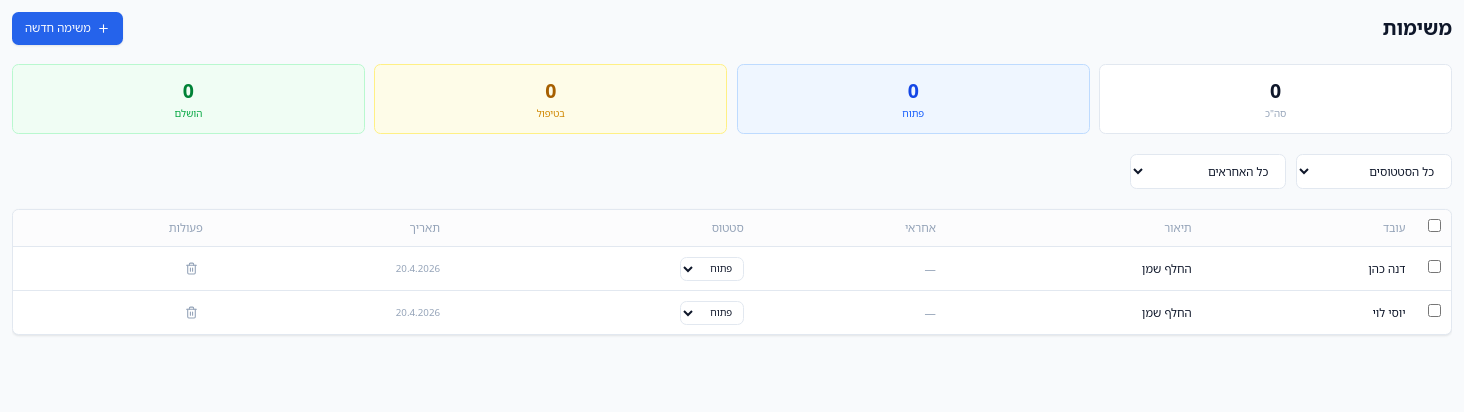
it: TasksClient — selection UI › select-all toggles all rows
Click the checkbox named "בחר הכל".
click(1435, 226)  # box 1428,219 -> 1441,232
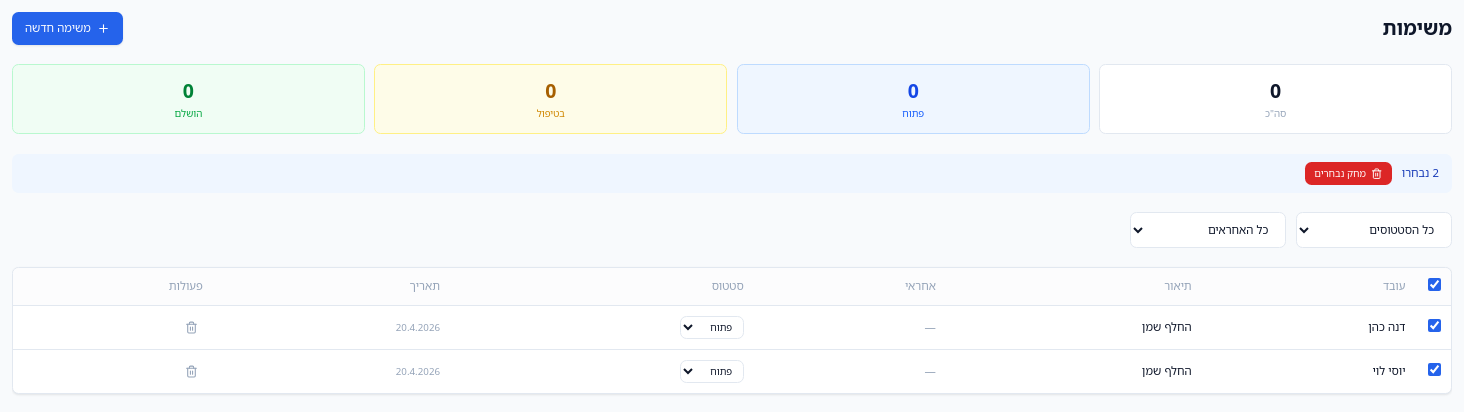
Now the checkbox named "בחר דנה כהן — החלף שמן" is checked, box 1428,319 -> 1441,332
Now the checkbox named "בחר יוסי לוי — החלף שמן" is checked, box 1428,363 -> 1441,376
Click the checkbox named "בחר הכל".
click(1435, 284)  # box 1428,278 -> 1441,291
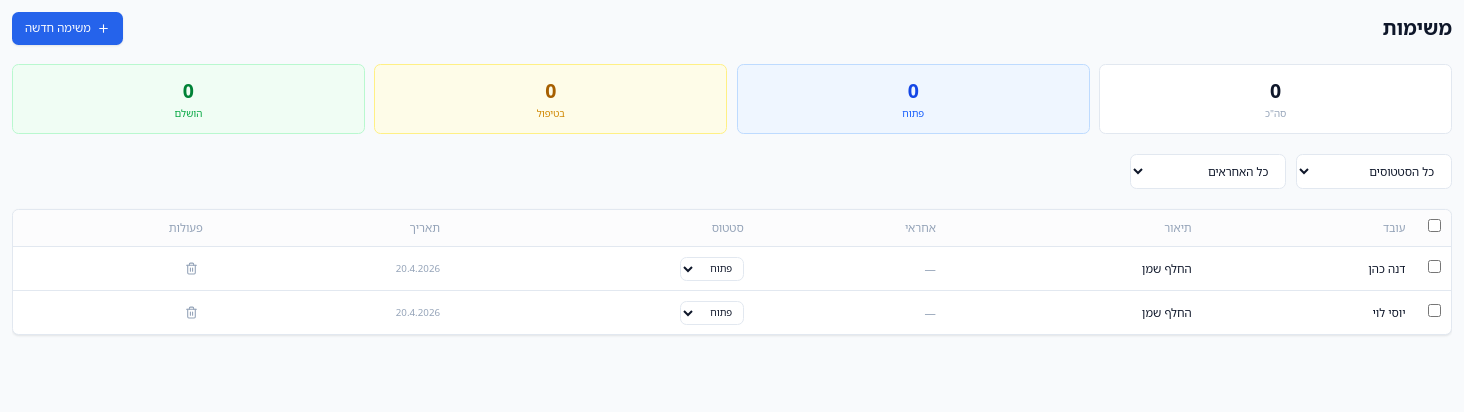
Now the checkbox named "בחר דנה כהן — החלף שמן" is not checked, box 1428,260 -> 1441,273
Now the checkbox named "בחר יוסי לוי — החלף שמן" is not checked, box 1428,304 -> 1441,317
